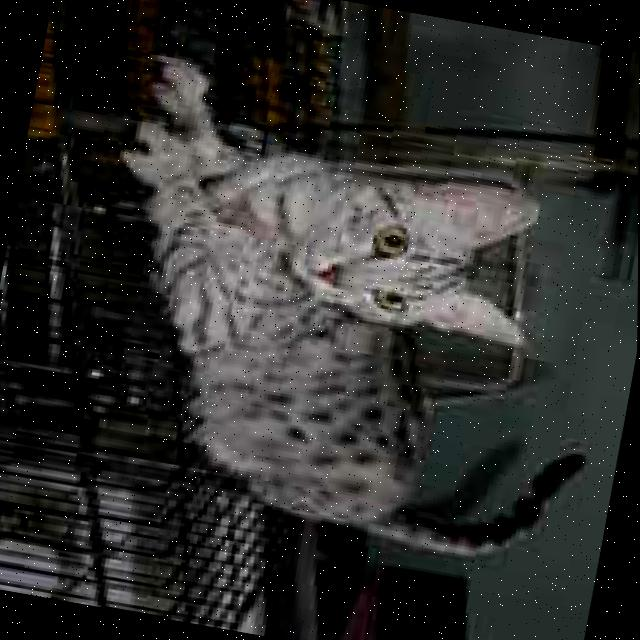Egyptian Mau: (58, 44, 640, 581)
